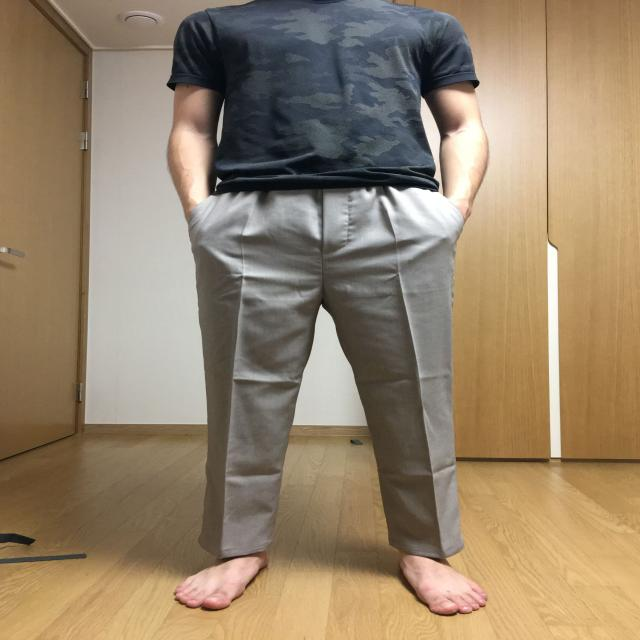cottonpants: (187, 180, 460, 559)
shortsleeve: (164, 4, 476, 193)
